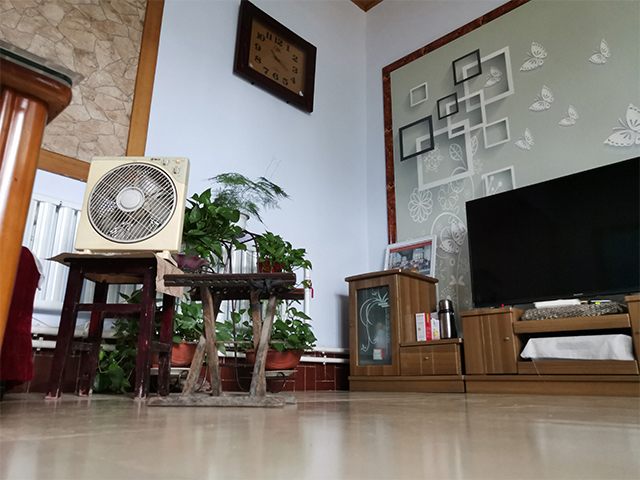cabinet: (341, 267, 640, 397)
stool: (146, 272, 307, 410), (44, 255, 181, 401)
